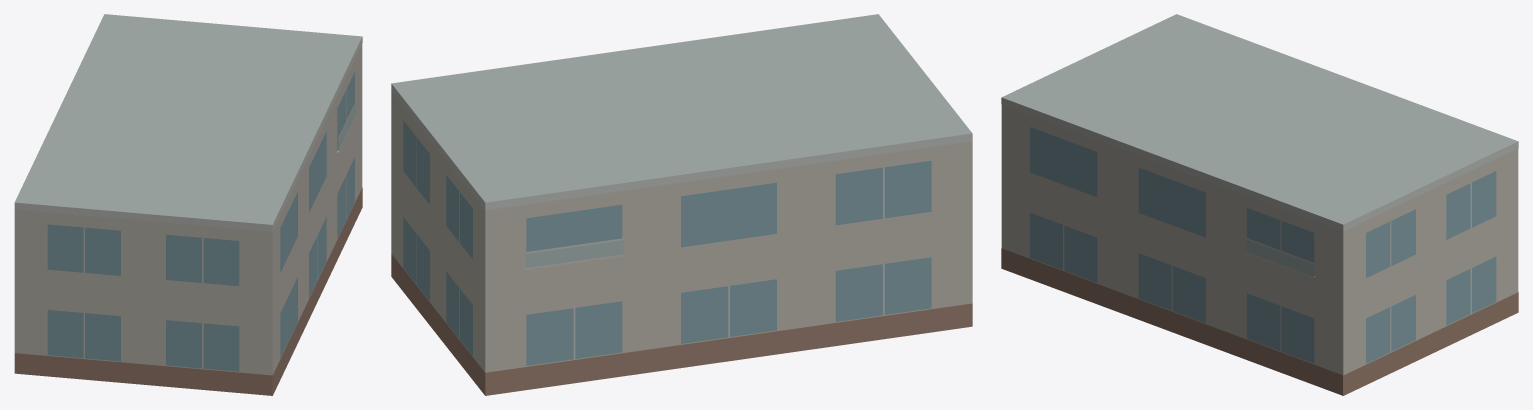
Rendered from survey-upis-32698045.glb.
3 views of the same model, side by side, from view 1: azimuth 30°, elevation 25°; view 2: azimuth 150°, elevation 25°; view 3: azimuth 270°, elevation 25° (orthographic). The views are drawn at different scales.
Parts seen in each view (by area): view 1: survey-upis-32698045.tmp; view 2: survey-upis-32698045.tmp; view 3: survey-upis-32698045.tmp.
Boxes of the visible parts, x1,y1,x2,y2 form: survey-upis-32698045.tmp: (14,14,362,395); survey-upis-32698045.tmp: (391,14,972,395); survey-upis-32698045.tmp: (1001,14,1518,395).
Bounding box in the file's own units: 16.11 × 6.1 × 16.7.
